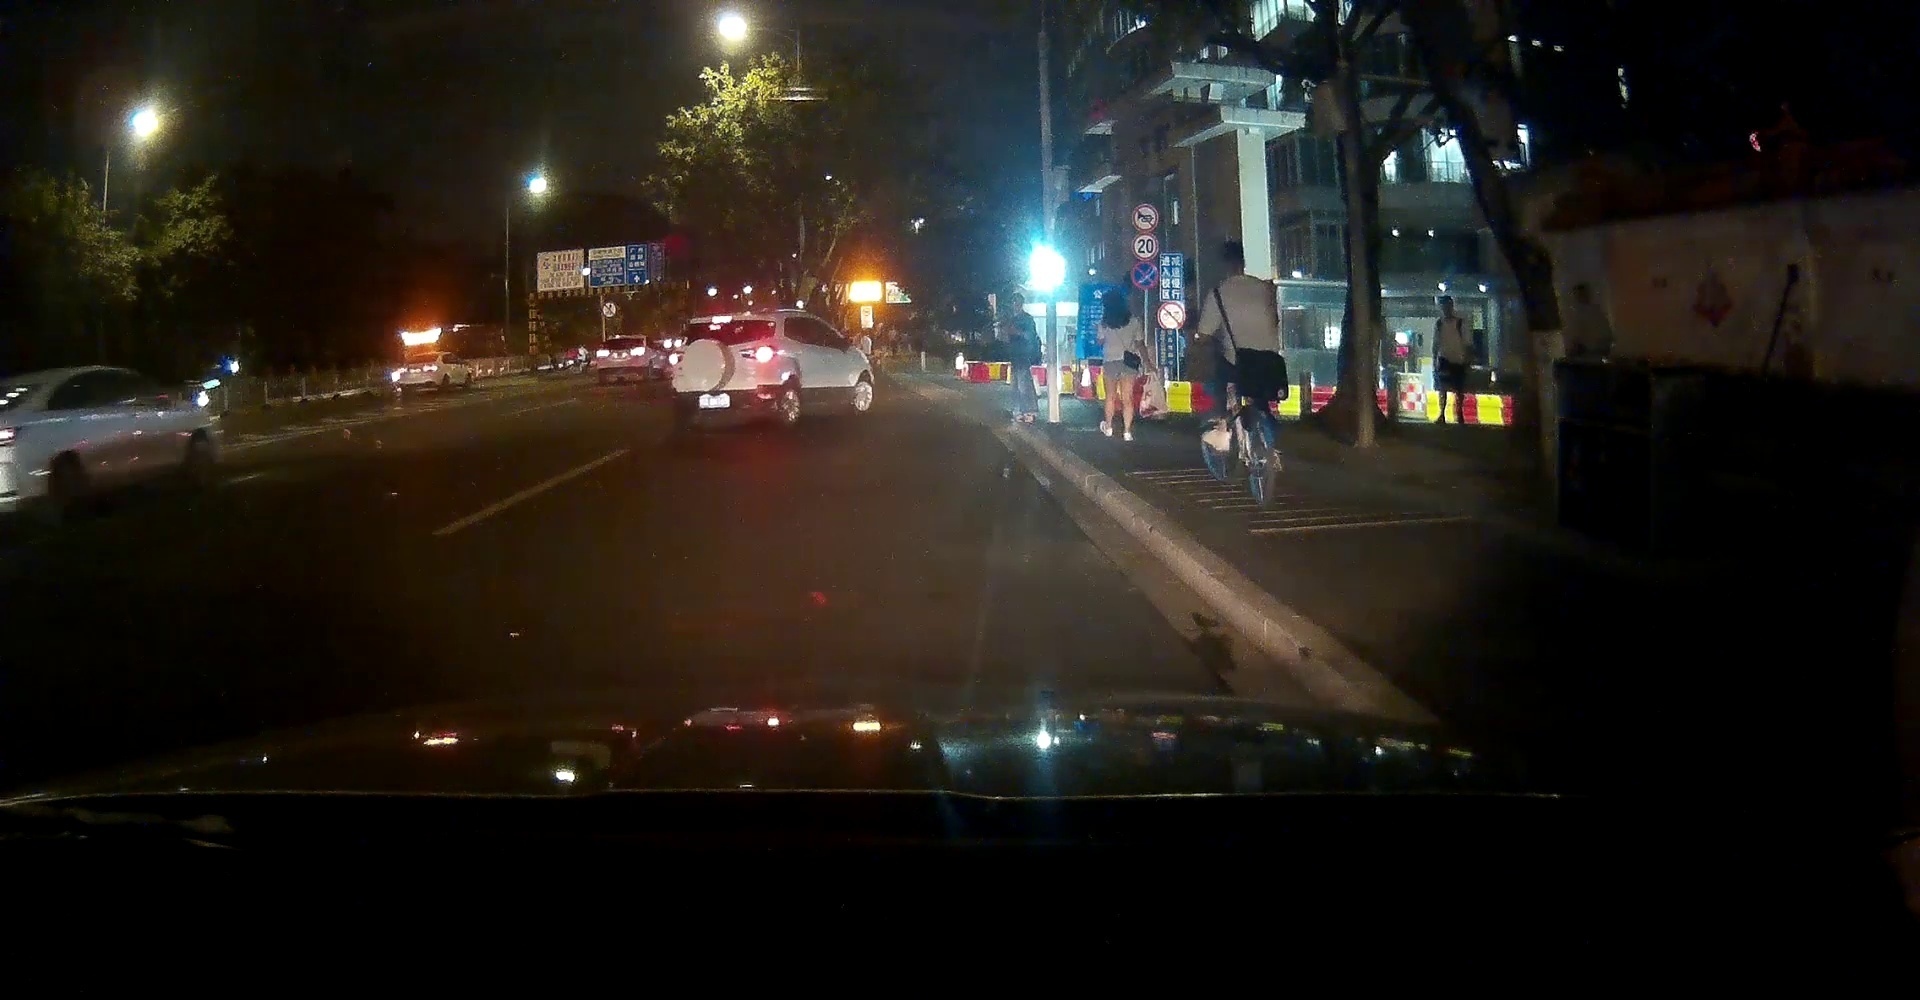L_light: (669, 352, 684, 364), (597, 349, 610, 357), (399, 367, 408, 373)
R_light: (739, 345, 775, 360), (630, 348, 645, 355), (422, 365, 438, 372)
T_light: (712, 317, 730, 324), (617, 339, 629, 341), (417, 357, 428, 358)
night-brake: (669, 316, 776, 426)
night-no: (597, 336, 646, 385), (399, 353, 439, 396)
